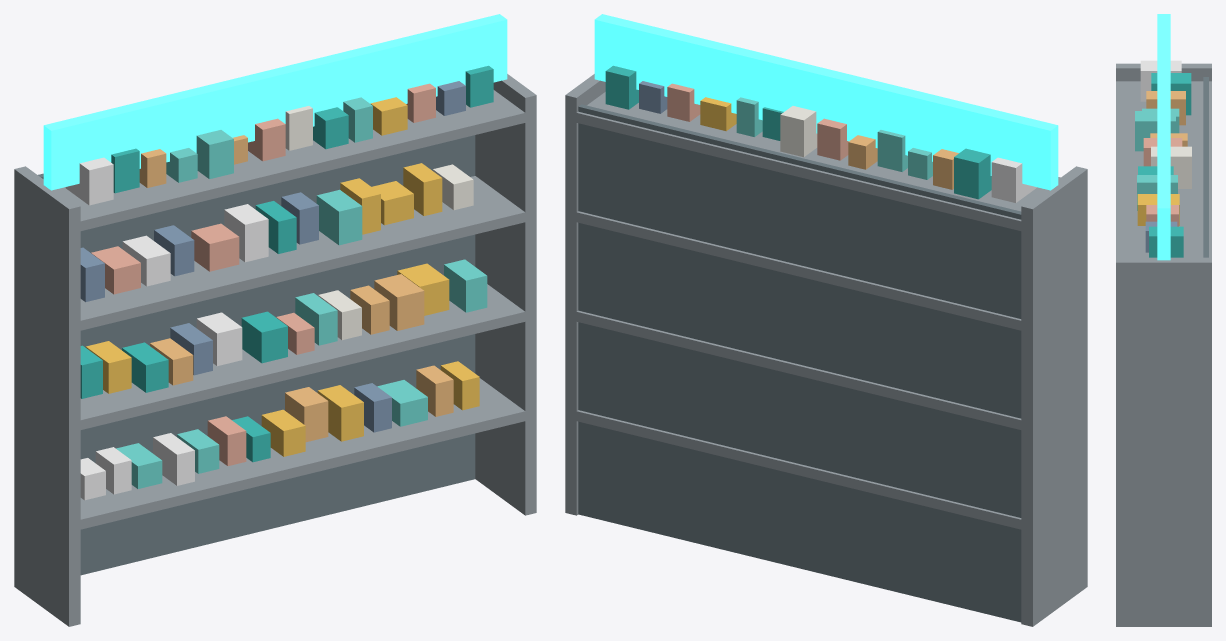
The model's file is prop_gondola.glb.
The picture shows the model from 3 angles, left to right: view 1: azimuth 30°, elevation 25°; view 2: azimuth 150°, elevation 25°; view 3: azimuth 270°, elevation 25°; orthographic projection. The views are drawn at different scales.
Parts seen in each view (by area): view 1: g_back, g_side_l, g_header, g_side_r, g_shelf_2, g_shelf_0, g_shelf_1, g_shelf_3, g_box_2_25, g_box_1_56, g_box_1_-14, g_box_2_-20 (+50 smaller); view 2: g_back, g_side_l, g_header, g_shelf_3, g_side_r, g_shelf_0, g_shelf_2, g_shelf_1, g_box_3_3, g_box_3_-88, g_box_3_-105, g_box_3_98 (+8 smaller); view 3: g_side_r, g_shelf_3, g_header, g_back, g_box_3_3, g_side_l, g_box_3_-43, g_box_3_98, g_box_3_-105, g_box_3_-88, g_box_3_-72, g_box_3_33 (+7 smaller).
Part boxes in pixels (x1,y1,x2,y2): g_back: (38, 135, 475, 575); g_side_l: (14, 166, 80, 626); g_header: (43, 14, 507, 190); g_side_r: (475, 74, 536, 515); g_shelf_2: (80, 176, 525, 330); g_shelf_0: (80, 378, 525, 529); g_shelf_1: (80, 284, 525, 429); g_shelf_3: (57, 90, 525, 230); g_box_2_25: (316, 189, 362, 245); g_box_1_56: (374, 274, 424, 330); g_box_1_-14: (241, 311, 287, 363); g_box_2_-20: (224, 204, 268, 262); g_back: (578, 104, 1021, 622); g_side_l: (1021, 166, 1087, 626); g_header: (594, 14, 1058, 190); g_shelf_3: (576, 92, 1060, 230); g_side_r: (565, 74, 605, 515); g_shelf_0: (576, 410, 1021, 529); g_shelf_2: (576, 211, 1021, 330); g_shelf_1: (576, 310, 1021, 429); g_box_3_3: (780, 106, 817, 157); g_box_3_-88: (954, 148, 991, 199); g_box_3_-105: (991, 157, 1036, 202); g_box_3_98: (605, 65, 638, 109); g_side_r: (1116, 257, 1211, 626); g_shelf_3: (1116, 81, 1211, 257); g_header: (1157, 14, 1170, 260); g_back: (1203, 77, 1208, 257); g_box_3_3: (1151, 146, 1191, 188); g_side_l: (1116, 63, 1211, 81); g_box_3_-43: (1135, 111, 1175, 151); g_box_3_98: (1149, 226, 1183, 257); g_box_3_-105: (1140, 60, 1181, 101); g_box_3_-88: (1151, 73, 1191, 115); g_box_3_-72: (1146, 91, 1185, 125); g_box_3_33: (1137, 175, 1177, 210).
Bounding box in the file's own units: 2.46 × 2.4 × 0.5.
